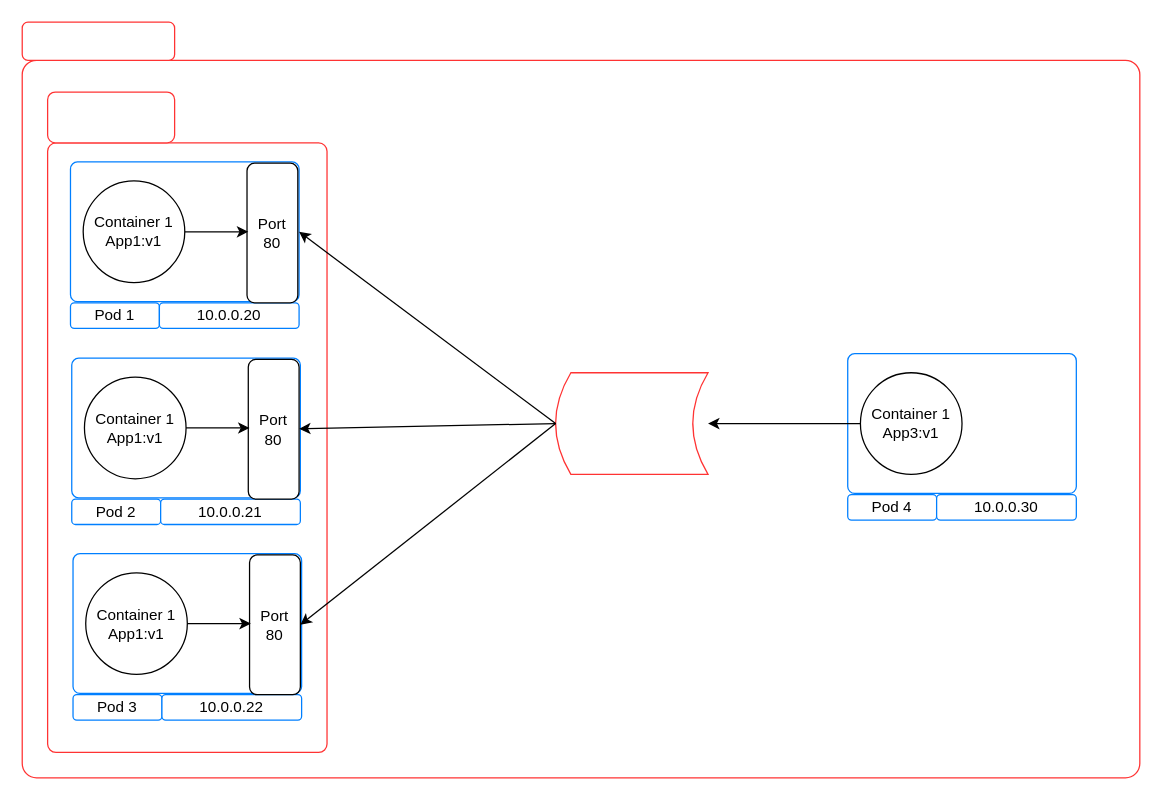
Some shapes in this 1162 by 800 pixel diagram are drawn without their labels. The shapes that lost their labels are listed below. From the top down, each one's box as (x1, y1, x2, y2) in pixels, then its label:
(21, 21, 175, 60): Worker Node
(46, 91, 175, 143): ReplcaSet replicas = 3
(554, 371, 708, 474): Service Type - ClusterIP
